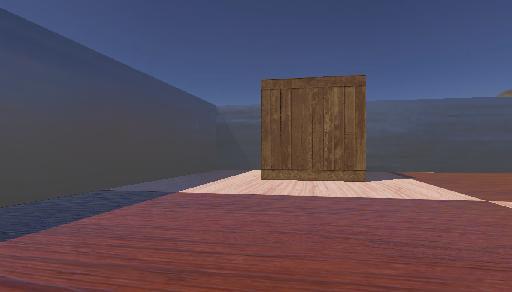WoodenBox: (246, 67, 380, 187)
